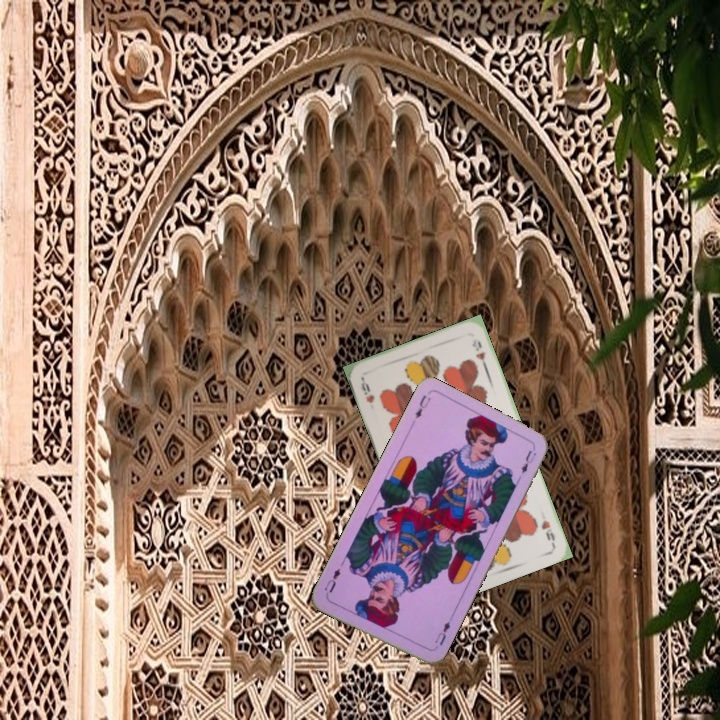EU: (430, 617, 453, 648), (411, 391, 434, 421)
H9: (537, 516, 558, 547), (357, 374, 377, 406)
